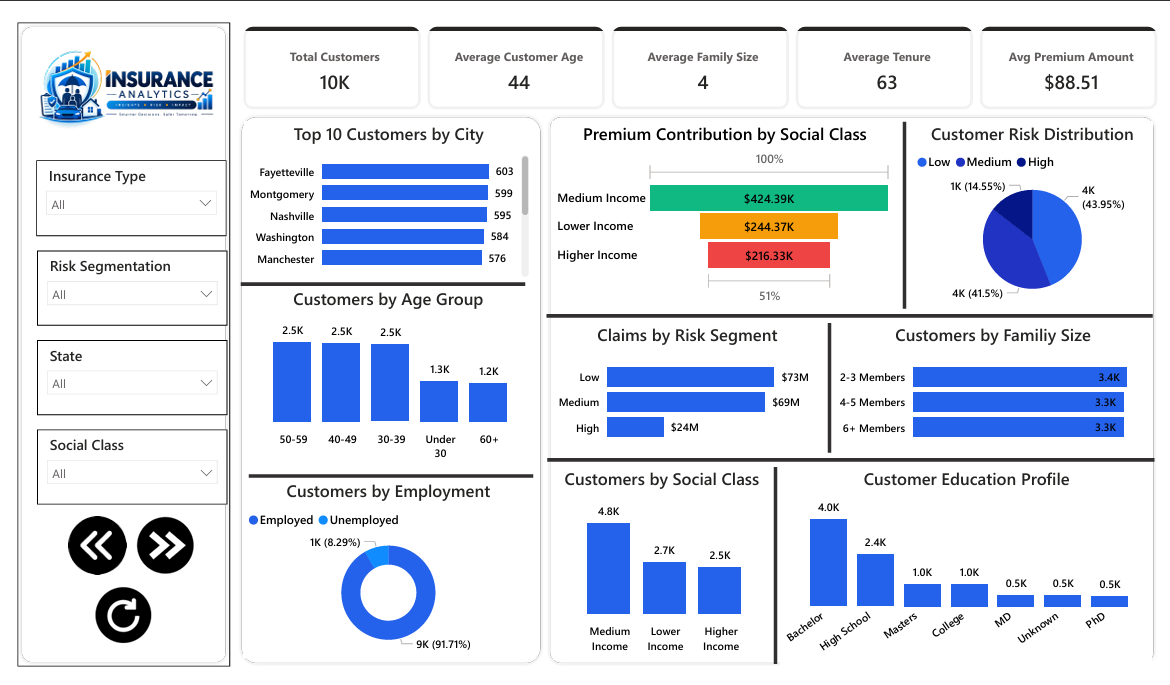

This screenshot's page, from the dashboard's own definition file:
{"tool":"powerbi","page":{"name":"Customer Analytics","canvas":[1280,720],"ordinal":1},"visuals":[{"type":"shape","box":[0,0,237.6,720.1],"z":0},{"type":"slicer","fields":{"Values":["Insurance.INSURANCE_TYPE"]},"box":[20.5,154.4,213.5,84.5],"z":1000},{"type":"slicer","fields":{"Values":["Insurance.RISK_SEGMENTATION"]},"box":[21.7,254.6,213.5,84.5],"z":2000},{"type":"slicer","fields":{"Values":["Insurance.STATE"]},"box":[21.7,354.7,213.5,84.5],"z":3000},{"type":"slicer","fields":{"Values":["Insurance.SOCIAL_CLASS"]},"box":[21.7,454.8,213.5,84.5],"z":4000},{"type":"cardVisual","fields":{"Data":["Measures .Total Customers","Measures .Average Customer Age","Measures .Average Family Size","Measures .Average Tenure","Measures .Avg Premium Amount"]},"box":[247.8,0,1032.4,102.1],"z":5000},{"type":"shape","box":[246.6,102.1,342.5,617.7],"z":6000},{"type":"columnChart","title":"Customers by Age Group","fields":{"Y":["Measures .Total Customers"],"Category":["Insurance.Age Group"]},"box":[252.8,296.4,323.8,200.5],"z":7000},{"type":"donutChart","title":"Customers by Employment","fields":{"Y":["Measures .Total Customers"],"Category":["Insurance.EMPLOYMENT_STATUS"]},"box":[252.8,510.6,323.8,199.3],"z":8000},{"type":"clusteredBarChart","title":"Top 10 Customers by City","fields":{"Y":["Measures .Total Customers"],"Category":["Insurance.CITY"]},"box":[254.1,110.8,322.6,178.1],"z":9000},{"type":"shape","box":[591.6,102.1,683.7,617.7],"z":10000},{"type":"columnChart","title":"Customers by Social Class","fields":{"Category":["Insurance.SOCIAL_CLASS"],"Y":["Measures .Total Customers"]},"box":[599.5,497.3,242.5,214.2],"z":11000},{"type":"funnel","title":"Premium Contribution by Social Class","fields":{"Category":["Insurance.SOCIAL_CLASS"],"Y":["Measures .Total Premium Amount"]},"box":[599,110.8,384.8,209.2],"z":12000},{"type":"pieChart","title":"Customer Risk Distribution","fields":{"Y":["Measures .Total Customers"],"Category":["Insurance.RISK_SEGMENTATION"]},"box":[1001.3,110.8,269,209.2],"z":13000},{"type":"barChart","title":"Claims by Risk Segment","fields":{"Category":["Insurance.RISK_SEGMENTATION"],"Y":["Measures .Total Claim Amount"]},"box":[599,336.2,301.4,144.5],"z":14000},{"type":"columnChart","title":"Customer Education Profile","fields":{"Category":["Insurance.CUSTOMER_EDUCATION_LEVEL"],"Y":["Measures .Total Customers"]},"box":[854.3,496.9,416,222.9],"z":15000},{"type":"barChart","title":"Customers by Familiy Size","fields":{"Y":["Measures .Total Customers"],"Category":["Insurance.Family Size Group"]},"box":[912.9,336.2,357.4,144.5],"z":16000},{"type":"image","box":[8.8,5,226.2,141.2],"z":17000},{"type":"shape","box":[591.6,320.1,678.7,16.2],"z":18000},{"type":"shape","box":[592.8,480.7,678.7,16.2],"z":19000},{"type":"shape","box":[250.3,288.9,317.6,7.5],"z":20000},{"type":"shape","box":[259,503.1,317.6,7.5],"z":21000},{"type":"shape","box":[983.9,110.8,17.4,209.2],"z":22000},{"type":"shape","box":[904.1,336.2,8.7,144.5],"z":23000},{"type":"shape","box":[841.9,496.9,12.4,220.4],"z":24000},{"type":"actionButton","box":[128.4,549,74.6,70.9],"z":25000},{"type":"actionButton","box":[77,620,83.2,84.4],"z":26000},{"type":"actionButton","box":[57.5,549,64.8,70.9],"z":27000}]}

Visuals, with their boxes on the page's 1280x720 design canvas (x1, y1, x2, y2). These are canvas units, not pixel positions in the 1170x685 screenshot, which may show the page scaled, cropped or inside an application window:
shape: bbox=[0, 0, 238, 720]
slicer - Insurance.INSURANCE_TYPE: bbox=[20, 154, 234, 239]
slicer - Insurance.RISK_SEGMENTATION: bbox=[22, 255, 235, 339]
slicer - Insurance.STATE: bbox=[22, 355, 235, 439]
slicer - Insurance.SOCIAL_CLASS: bbox=[22, 455, 235, 539]
cardVisual - Measures .Total Customers x Measures .Average Customer Age: bbox=[248, 0, 1280, 102]
shape: bbox=[247, 102, 589, 720]
"Customers by Age Group" columnChart: bbox=[253, 296, 577, 497]
"Customers by Employment" donutChart: bbox=[253, 511, 577, 710]
"Top 10 Customers by City" clusteredBarChart: bbox=[254, 111, 577, 289]
shape: bbox=[592, 102, 1275, 720]
"Customers by Social Class" columnChart: bbox=[600, 497, 842, 712]
"Premium Contribution by Social Class" funnel: bbox=[599, 111, 984, 320]
"Customer Risk Distribution" pieChart: bbox=[1001, 111, 1270, 320]
"Claims by Risk Segment" barChart: bbox=[599, 336, 900, 481]
"Customer Education Profile" columnChart: bbox=[854, 497, 1270, 720]
"Customers by Familiy Size" barChart: bbox=[913, 336, 1270, 481]
image: bbox=[9, 5, 235, 146]
shape: bbox=[592, 320, 1270, 336]
shape: bbox=[593, 481, 1272, 497]
shape: bbox=[250, 289, 568, 296]
shape: bbox=[259, 503, 577, 511]
shape: bbox=[984, 111, 1001, 320]
shape: bbox=[904, 336, 913, 481]
shape: bbox=[842, 497, 854, 717]
actionButton: bbox=[128, 549, 203, 620]
actionButton: bbox=[77, 620, 160, 704]
actionButton: bbox=[58, 549, 122, 620]
